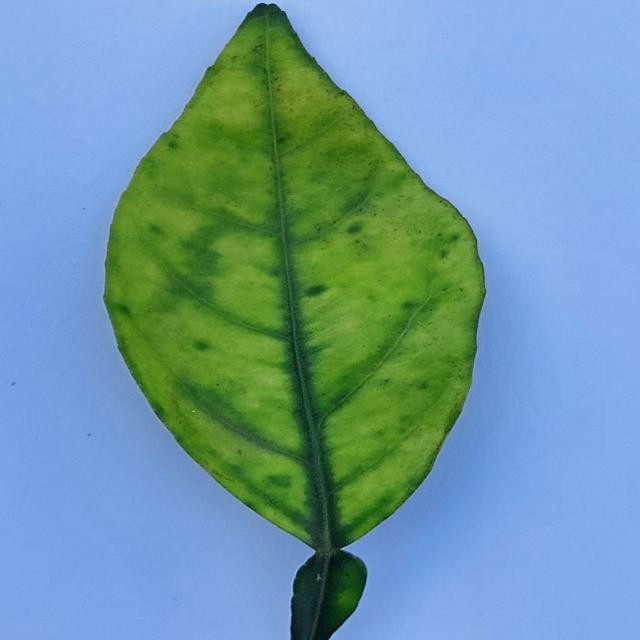greening: (104, 4, 484, 640)
